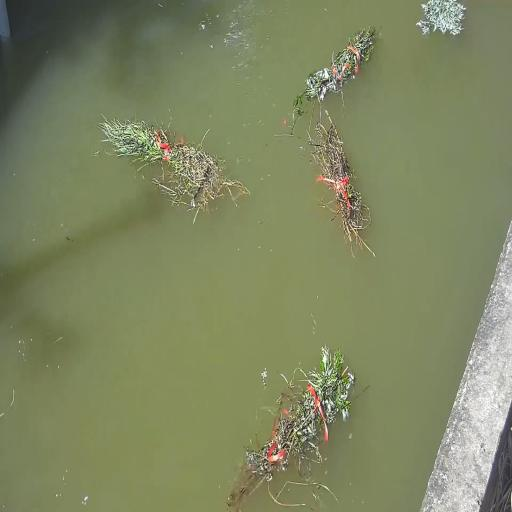twig: (229, 342, 358, 509), (96, 86, 246, 222), (288, 25, 375, 132), (311, 112, 374, 259), (97, 113, 167, 168), (415, 0, 467, 37)
